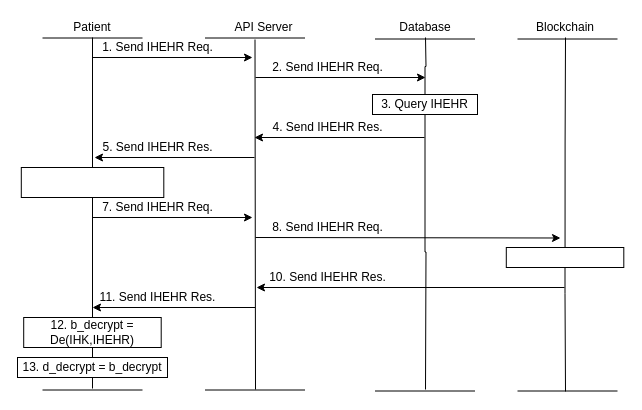
This 642x410 diagram has some shape labels left out. Here are the shapes that lost their labels. From the top down, the box of each, then its label:
(20, 166, 164, 198): 6. d_decrypt = De(IHK, IHEHR )
(505, 246, 624, 268): 9. Query IHEHR
